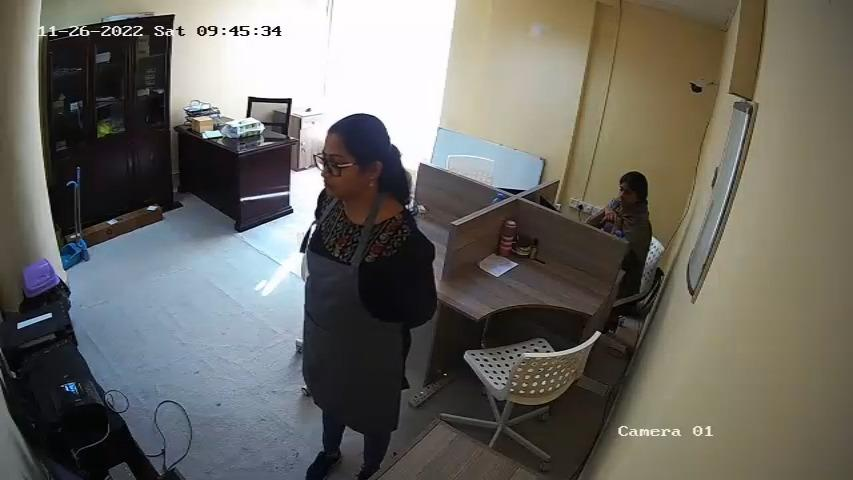apron: (301, 201, 407, 386)
